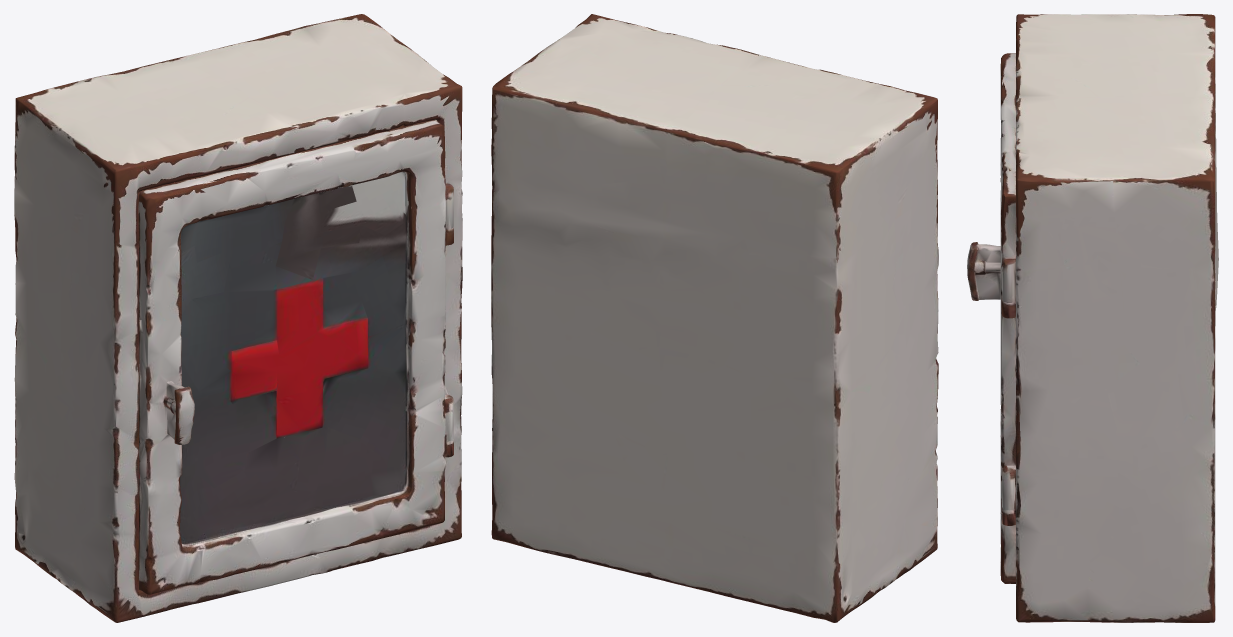
The model's file is medicine_cabinet_vannyy_idle.glb.
3 renders of one model, left to right at view 1: azimuth 30°, elevation 25°; view 2: azimuth 150°, elevation 25°; view 3: azimuth 270°, elevation 25°, orthographic. The views are drawn at different scales.
Visible parts, largest first — view 1: tripo_node_fec59cfd-3611-4fca-80ee-5ee0c2c80492; view 2: tripo_node_fec59cfd-3611-4fca-80ee-5ee0c2c80492; view 3: tripo_node_fec59cfd-3611-4fca-80ee-5ee0c2c80492.
Boxes of the visible parts, left/top/right/bottom form: tripo_node_fec59cfd-3611-4fca-80ee-5ee0c2c80492: left=14, top=14, right=462, bottom=622; tripo_node_fec59cfd-3611-4fca-80ee-5ee0c2c80492: left=491, top=14, right=938, bottom=622; tripo_node_fec59cfd-3611-4fca-80ee-5ee0c2c80492: left=967, top=14, right=1218, bottom=622.
Bounding box in the file's own units: 0.4818 × 0.6 × 0.3075.
Materials: 1 (1 with a texture image).
